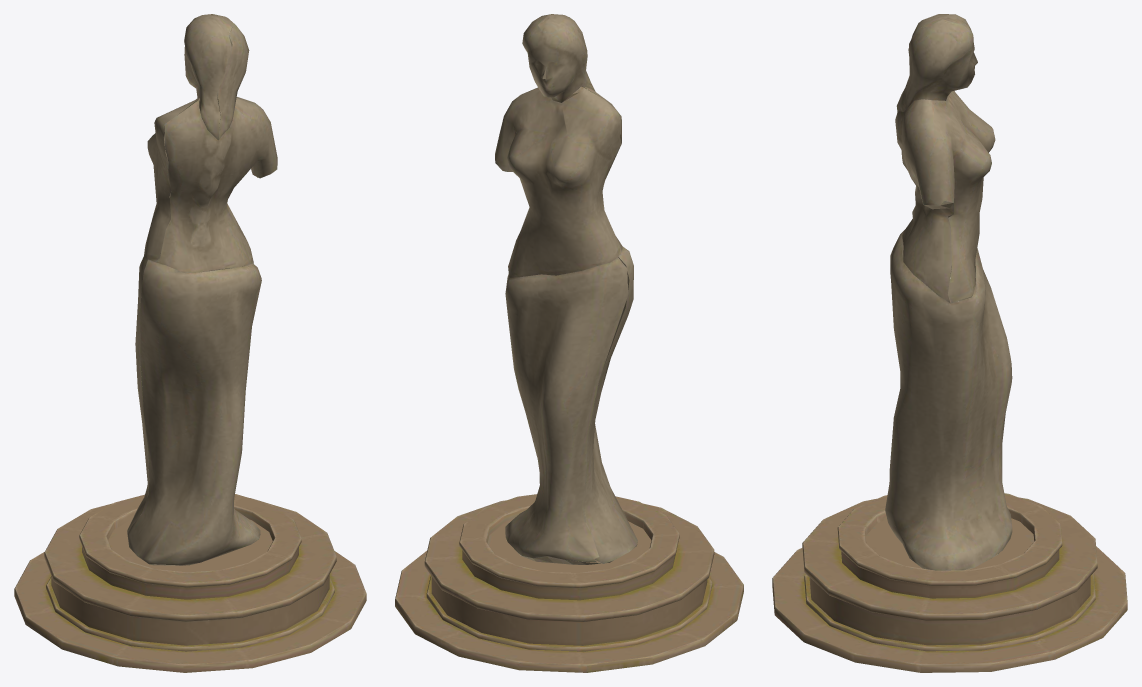
File: ARC0510122.fbx
3 renders of one model, left to right at view 1: azimuth 30°, elevation 25°; view 2: azimuth 150°, elevation 25°; view 3: azimuth 270°, elevation 25°, orthographic. The views are drawn at different scales.
Parts seen in each view (by area): view 1: smARC0510122; view 2: smARC0510122; view 3: smARC0510122.
Part boxes in pixels (box(x1,y1,x2,y2)): smARC0510122: box(14, 14, 366, 672); smARC0510122: box(395, 14, 743, 672); smARC0510122: box(772, 14, 1127, 672).
Bounding box in the file's own units: 321 × 597 × 321.
Materials: 1 (1 with a texture image).
